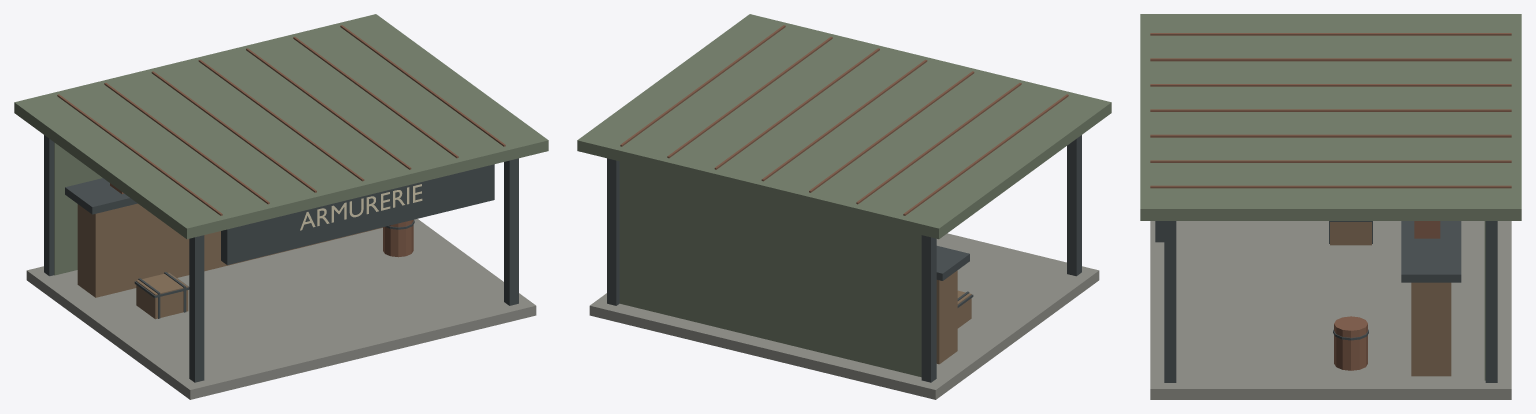
The model's file is Refuge_Boutique_02_ARMURERIE.fbx.
3 renders of one model, left to right at view 1: azimuth 30°, elevation 25°; view 2: azimuth 150°, elevation 25°; view 3: azimuth 270°, elevation 25°, orthographic. The views are drawn at different scales.
Parts seen in each view (by area): view 1: Refuge_Boutique_02_ARMURERIE_canvas, Refuge_Boutique_02_ARMURERIE_concrete, Refuge_Boutique_02_ARMURERIE_iron, Refuge_Boutique_02_ARMURERIE_wood, Refuge_Boutique_02_ARMURERIE_rust, Refuge_Boutique_02_ARMURERIE_label; view 2: Refuge_Boutique_02_ARMURERIE_canvas, Refuge_Boutique_02_ARMURERIE_concrete, Refuge_Boutique_02_ARMURERIE_iron, Refuge_Boutique_02_ARMURERIE_rust, Refuge_Boutique_02_ARMURERIE_wood; view 3: Refuge_Boutique_02_ARMURERIE_canvas, Refuge_Boutique_02_ARMURERIE_concrete, Refuge_Boutique_02_ARMURERIE_rust, Refuge_Boutique_02_ARMURERIE_iron, Refuge_Boutique_02_ARMURERIE_wood.
Boxes of the visible parts, x1=… form: Refuge_Boutique_02_ARMURERIE_canvas: x1=14, y1=14, x2=548, y2=275; Refuge_Boutique_02_ARMURERIE_concrete: x1=26, y1=219, x2=536, y2=399; Refuge_Boutique_02_ARMURERIE_iron: x1=44, y1=135, x2=518, y2=382; Refuge_Boutique_02_ARMURERIE_wood: x1=77, y1=203, x2=382, y2=319; Refuge_Boutique_02_ARMURERIE_rust: x1=57, y1=25, x2=505, y2=257; Refuge_Boutique_02_ARMURERIE_label: x1=300, y1=184, x2=422, y2=230; Refuge_Boutique_02_ARMURERIE_canvas: x1=577, y1=14, x2=1111, y2=377; Refuge_Boutique_02_ARMURERIE_concrete: x1=589, y1=233, x2=1099, y2=399; Refuge_Boutique_02_ARMURERIE_iron: x1=607, y1=135, x2=1081, y2=382; Refuge_Boutique_02_ARMURERIE_rust: x1=620, y1=25, x2=1068, y2=215; Refuge_Boutique_02_ARMURERIE_wood: x1=936, y1=270, x2=971, y2=364; Refuge_Boutique_02_ARMURERIE_canvas: x1=1140, y1=14, x2=1521, y2=380; Refuge_Boutique_02_ARMURERIE_concrete: x1=1150, y1=221, x2=1511, y2=399; Refuge_Boutique_02_ARMURERIE_rust: x1=1150, y1=33, x2=1511, y2=370; Refuge_Boutique_02_ARMURERIE_iron: x1=1155, y1=221, x2=1497, y2=382; Refuge_Boutique_02_ARMURERIE_wood: x1=1330, y1=222, x2=1451, y2=376.
Bounding box in the file's own units: 23 × 10.88 × 19.
